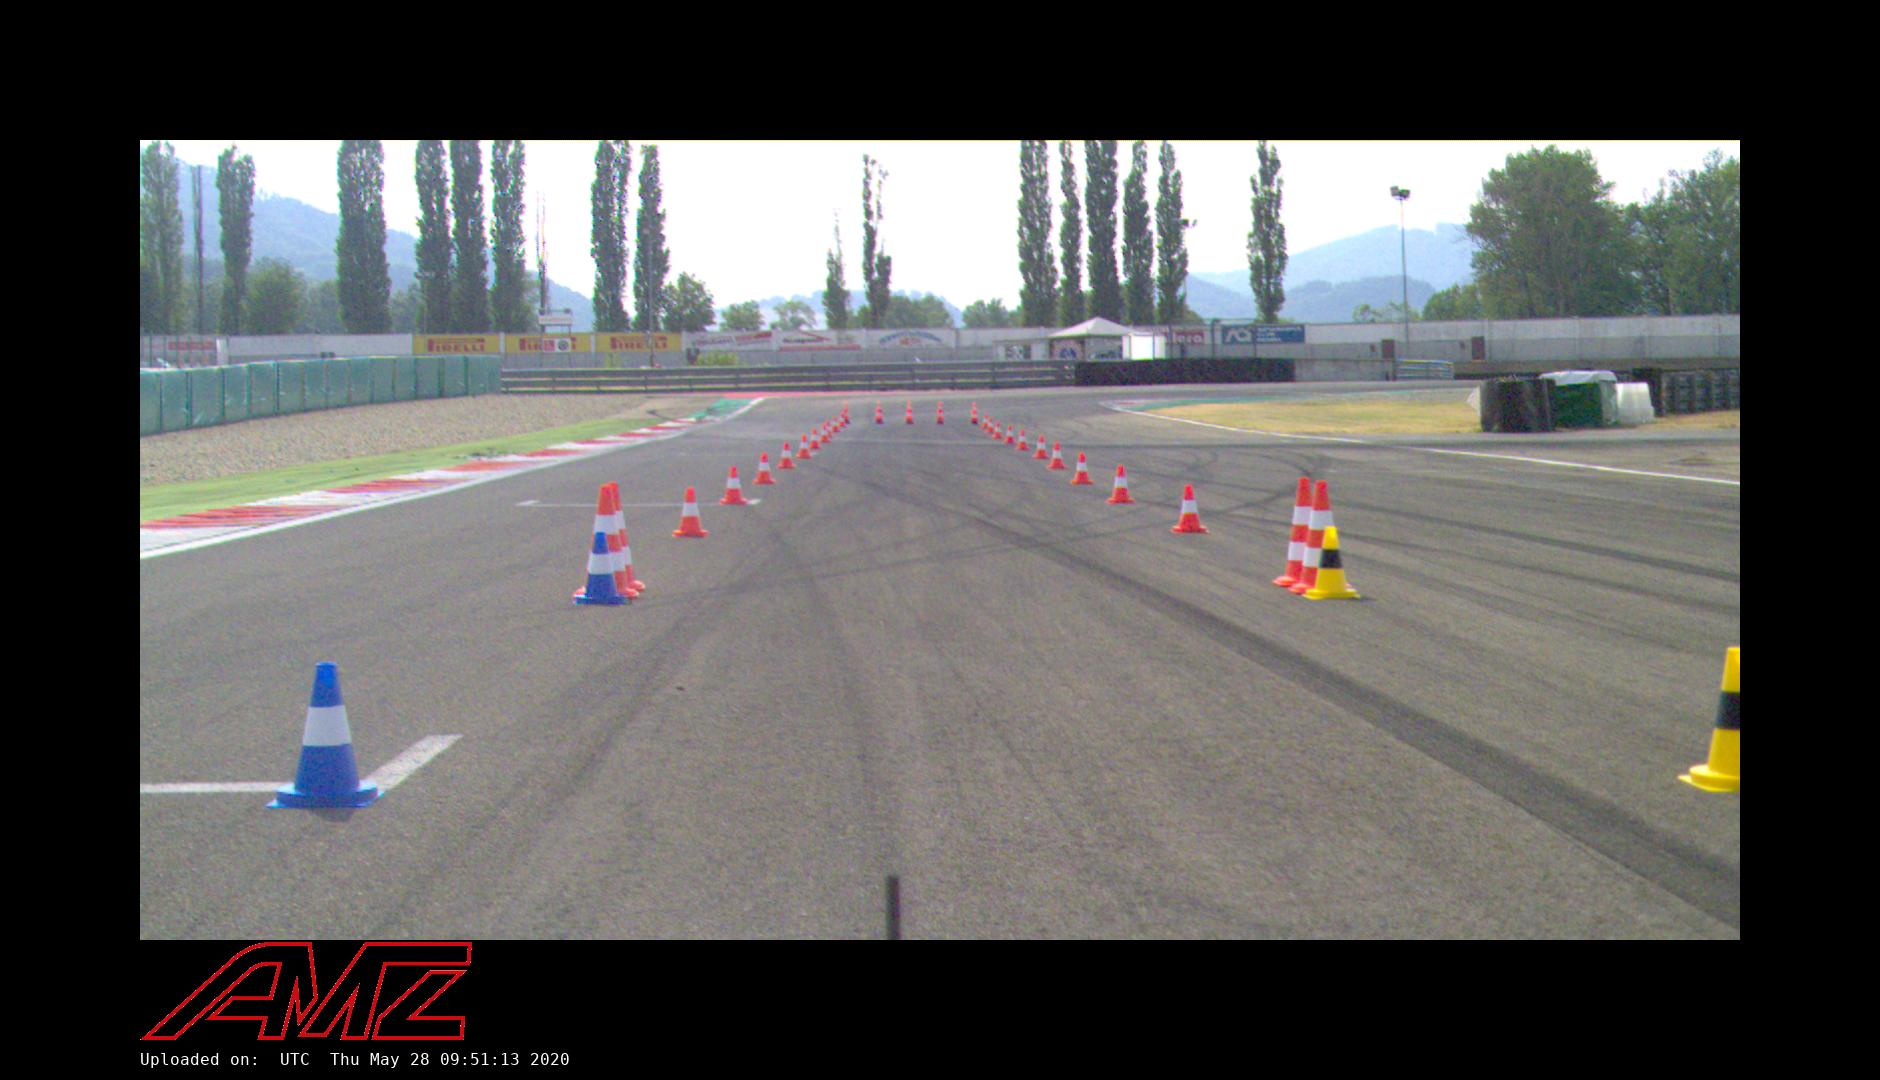blue_cone: (265, 661, 386, 809), (573, 531, 630, 606)
large_orange_cone: (1289, 481, 1353, 594), (576, 486, 639, 599), (1272, 479, 1316, 587), (606, 482, 646, 592), (934, 402, 946, 424), (904, 402, 915, 424), (873, 402, 884, 424), (970, 402, 979, 425), (841, 403, 851, 422)
orange_cone: (1171, 484, 1209, 535), (671, 488, 709, 537), (1104, 465, 1136, 506), (720, 466, 748, 505), (1070, 452, 1094, 484), (754, 453, 775, 484), (1047, 442, 1067, 470), (777, 442, 795, 469), (795, 435, 812, 459), (1033, 435, 1048, 460), (1015, 430, 1030, 451), (810, 429, 821, 450), (1005, 426, 1016, 444), (819, 425, 830, 443), (992, 422, 1002, 439), (832, 416, 841, 431), (838, 413, 847, 428), (986, 419, 994, 434), (981, 415, 989, 429), (826, 422, 833, 439)
yellow_cone: (1677, 649, 1739, 791), (1302, 527, 1361, 599)
